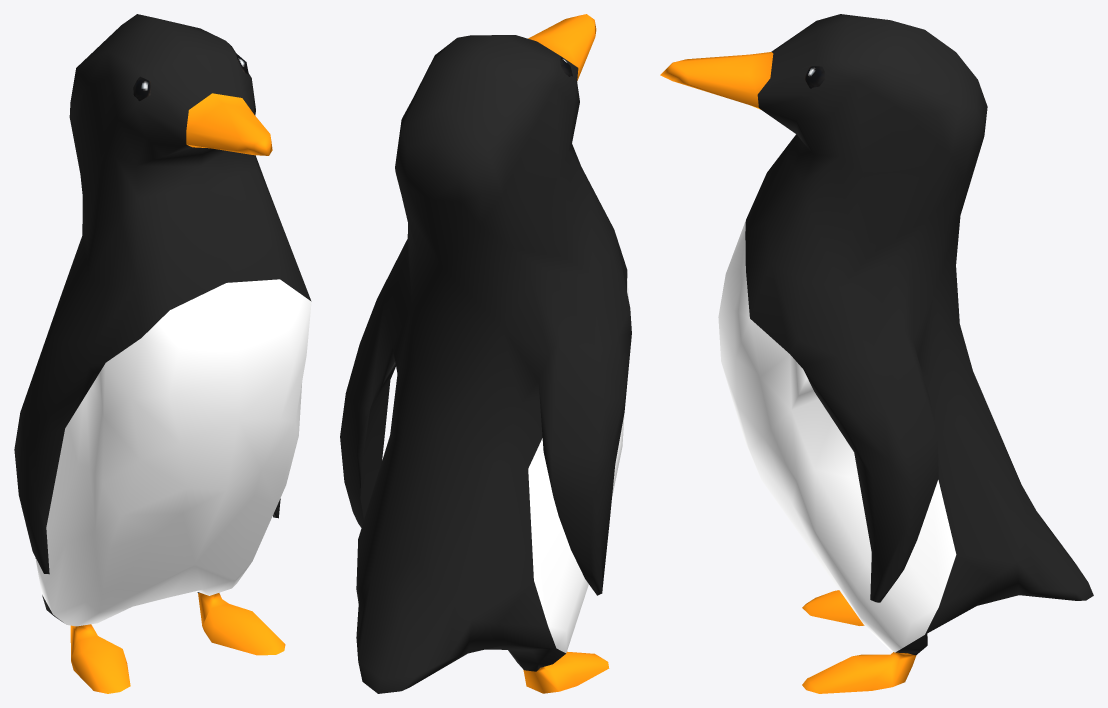
The model's file is b293becd-59e3-48ba-9fca-6b1cf3a42669.glb.
3 views of the same model, side by side, from view 1: azimuth 30°, elevation 25°; view 2: azimuth 150°, elevation 25°; view 3: azimuth 270°, elevation 25° (orthographic).
Visible parts, largest first — view 1: Penguin; view 2: Penguin; view 3: Penguin.
Part boxes in pixels (<box>): Penguin: <box>14,14,311,693</box>; Penguin: <box>340,14,631,693</box>; Penguin: <box>660,14,1093,693</box>.
Size of what is drawn, in the model's own units: 0.4483 by 1.01 by 0.6359.
1 material, 1 textured.
